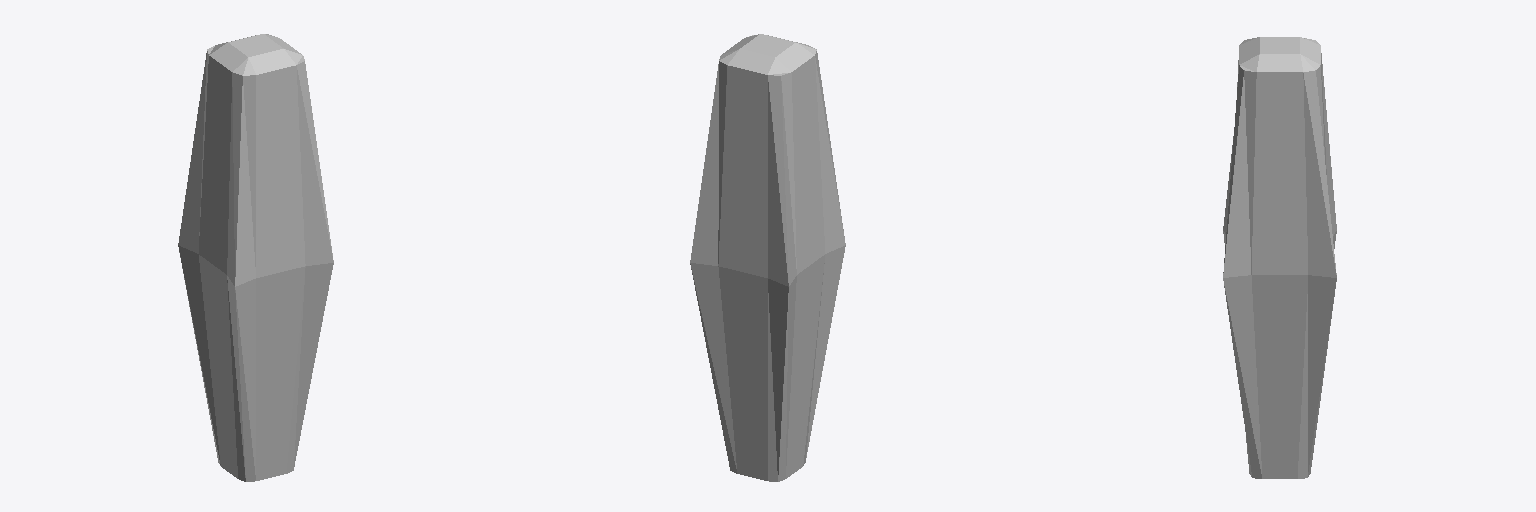
The model's file is cactus0.obj.
3 views of the same model, side by side, from view 1: azimuth 30°, elevation 25°; view 2: azimuth 150°, elevation 25°; view 3: azimuth 270°, elevation 25° (orthographic).
Parts seen in each view (by area): view 1: Cube_Cube.001; view 2: Cube_Cube.001; view 3: Cube_Cube.001.
Part boxes in pixels (bbox=[...]): Cube_Cube.001: bbox=[178, 34, 333, 481]; Cube_Cube.001: bbox=[690, 34, 845, 481]; Cube_Cube.001: bbox=[1223, 37, 1336, 478].
Bounding box in the file's own units: 0.1954 × 0.7963 × 0.1954.